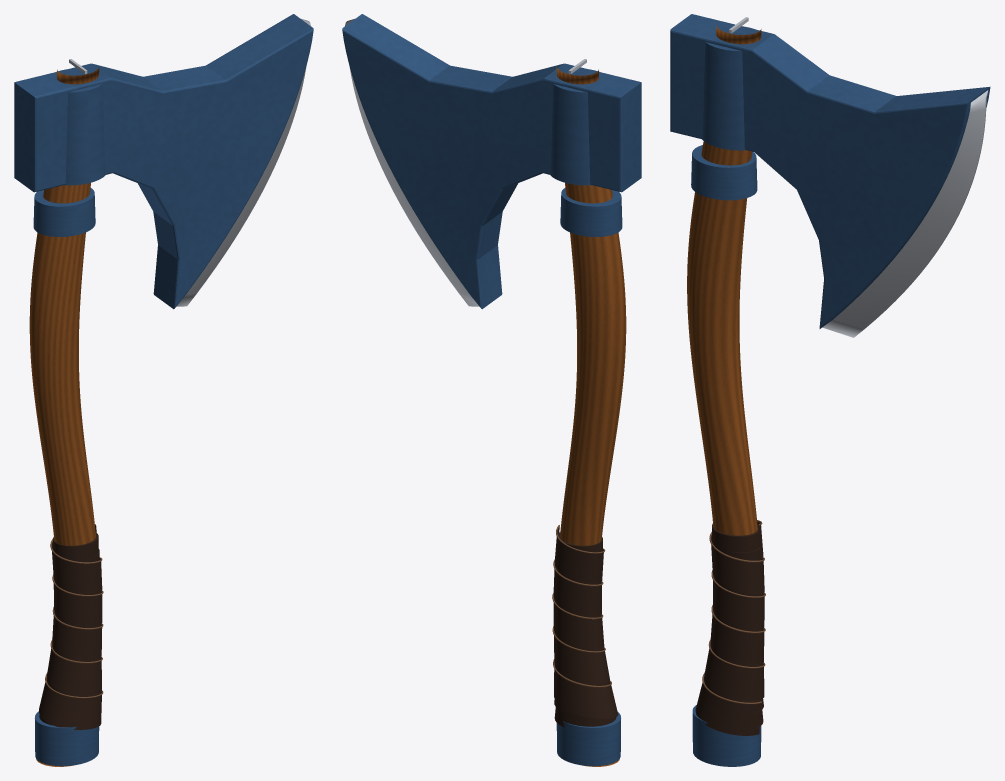
File: kaldite_hatchet.glb
The picture shows the model from 3 angles, left to right: view 1: azimuth 30°, elevation 25°; view 2: azimuth 150°, elevation 25°; view 3: azimuth 330°, elevation 25°; orthographic projection. The views are drawn at different scales.
Visible parts, largest first — view 1: cobalt-steel, longitudinal-oak, dark-brown-grip-leather, honed-kaldite_hatchet, strap-edge-and-inlay; view 2: cobalt-steel, longitudinal-oak, dark-brown-grip-leather, honed-kaldite_hatchet, strap-edge-and-inlay; view 3: cobalt-steel, longitudinal-oak, dark-brown-grip-leather, honed-kaldite_hatchet, strap-edge-and-inlay.
Part boxes in pixels (x1,y1,x2,y2): cobalt-steel: (14,14,313,766); longitudinal-oak: (29,67,99,766); dark-brown-grip-leather: (39,526,102,729); honed-kaldite_hatchet: (69,19,310,306); strap-edge-and-inlay: (45,524,103,698); cobalt-steel: (342,14,641,766); longitudinal-oak: (556,67,626,766); dark-brown-grip-leather: (553,527,618,727); honed-kaldite_hatchet: (345,19,586,306); strap-edge-and-inlay: (552,525,611,687); cobalt-steel: (670,14,990,766); longitudinal-oak: (687,26,761,535); dark-brown-grip-leather: (695,521,764,735); honed-kaldite_hatchet: (729,17,988,337); strap-edge-and-inlay: (702,520,765,704).
Bounding box in the file's own units: 0.2876 × 0.6625 × 0.0504.
Materials: 5 (3 with a texture image).
